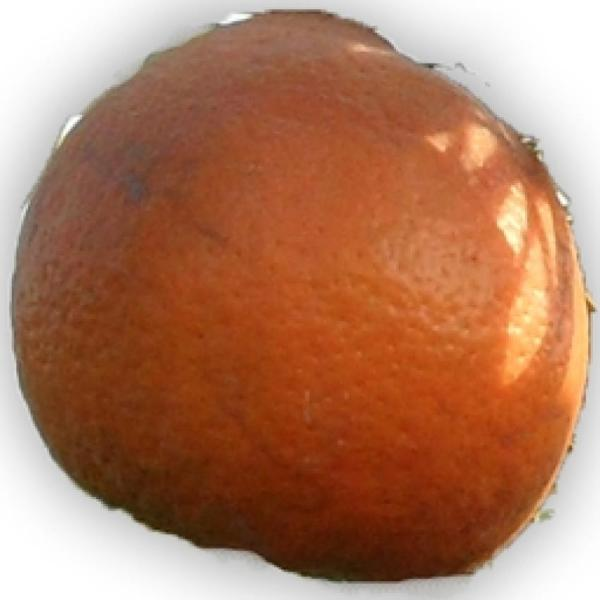Canker: (7, 1, 599, 592)
